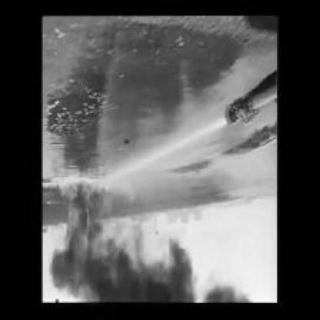Smoke: (104, 253, 202, 305)
